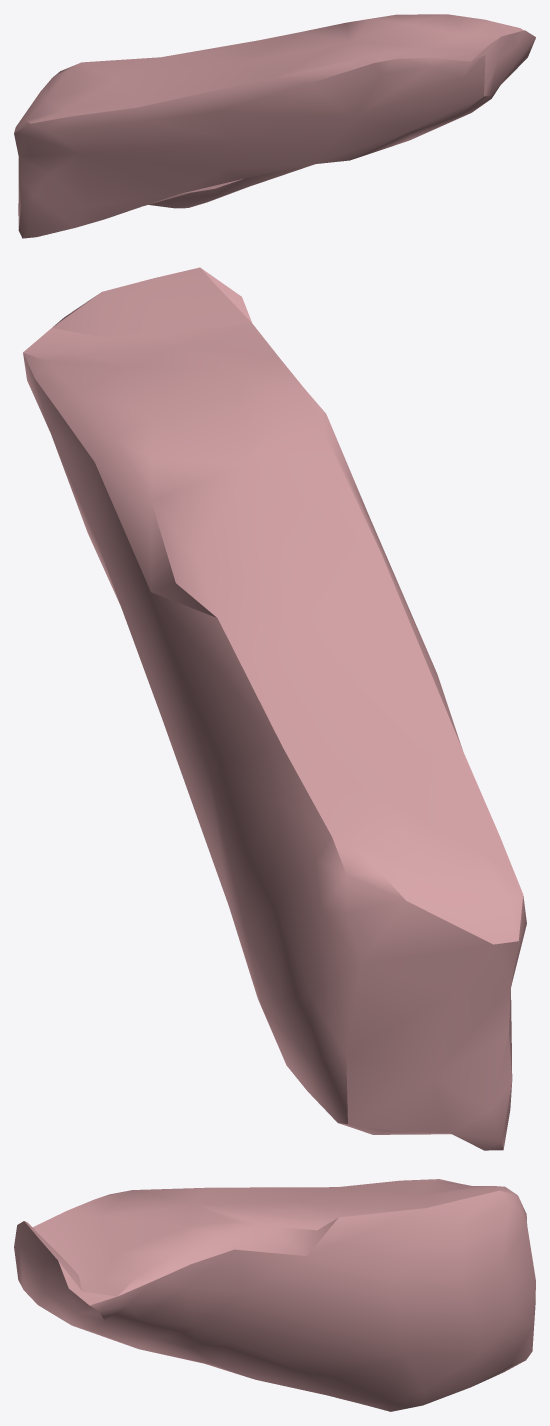
Rendered from fma54801_mm2104.glb.
3 renders of one model, top to bottom at view 1: azimuth 30°, elevation 25°; view 2: azimuth 150°, elevation 25°; view 3: azimuth 270°, elevation 25°, orthographic. The views are drawn at different scales.
Parts seen in each view (by area): view 1: FMA54801_MM2104; view 2: FMA54801_MM2104; view 3: FMA54801_MM2104.
Boxes of the visible parts, x1,y1,x2,y2 form: FMA54801_MM2104: (14, 14, 535, 238); FMA54801_MM2104: (23, 267, 526, 1150); FMA54801_MM2104: (14, 1179, 535, 1411).
Size of the model in its own units: 0.0149 by 0.0091 by 0.0131.
